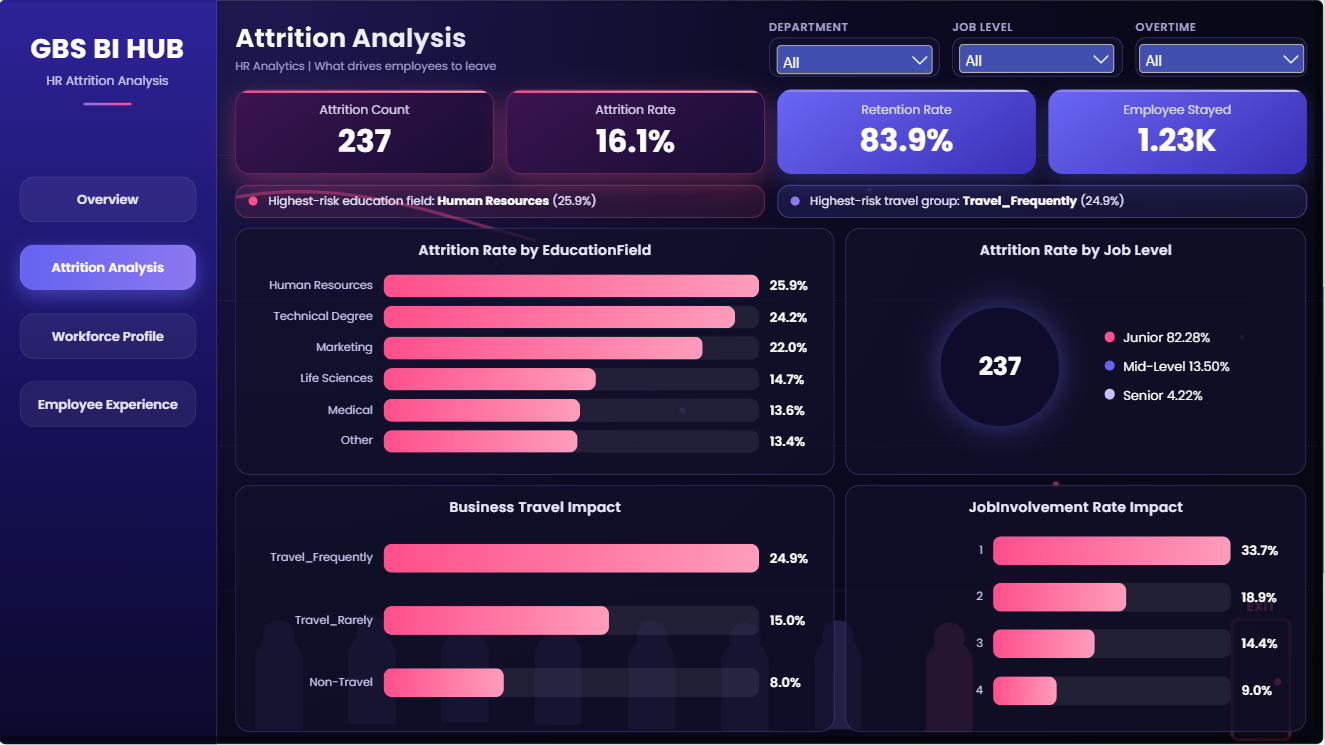

The page's visual inventory and layout, read from the dashboard file:
{"tool":"powerbi","page":{"name":"Attrition Analysis","canvas":[1280,720],"ordinal":2},"visuals":[{"type":"htmlContent443BE3AD55E043BF878BED274D3A6855","fields":{"content":["DAX.HR Attrition Analysis HTML"]},"box":[0,0,1280,720.2],"z":0},{"type":"slicer","fields":{"Values":["Department_Dim.Department"]},"box":[746.8,39.8,160.5,37.4],"z":1000},{"type":"slicer","fields":{"Values":["Employee_Fact.Job Level"]},"box":[922.9,38.6,159.3,38.6],"z":2000},{"type":"slicer","fields":{"Values":["Employee_Fact.OverTime"]},"box":[1096.7,38.6,168.9,38.6],"z":3000},{"type":"actionButton","box":[22.9,173.7,171.3,42.2],"z":4000},{"type":"actionButton","box":[22.9,306.4,171.3,39.8],"z":5000},{"type":"actionButton","box":[22.9,369.2,171.3,39.8],"z":6000}]}

Visuals, with their boxes in screenshot pixels (x1, y1, x2, y2), scaled from the page's 1280x720 canvas onto the 1325x745 screenshot:
htmlContent443BE3AD55E043BF878BED274D3A6855 - DAX.HR Attrition Analysis HTML: {"left": 0, "top": 0, "right": 1324, "bottom": 744}
slicer - Department_Dim.Department: {"left": 773, "top": 41, "right": 939, "bottom": 80}
slicer - Employee_Fact.Job Level: {"left": 955, "top": 40, "right": 1120, "bottom": 80}
slicer - Employee_Fact.OverTime: {"left": 1135, "top": 40, "right": 1310, "bottom": 80}
actionButton: {"left": 24, "top": 180, "right": 201, "bottom": 223}
actionButton: {"left": 24, "top": 317, "right": 201, "bottom": 358}
actionButton: {"left": 24, "top": 382, "right": 201, "bottom": 423}
